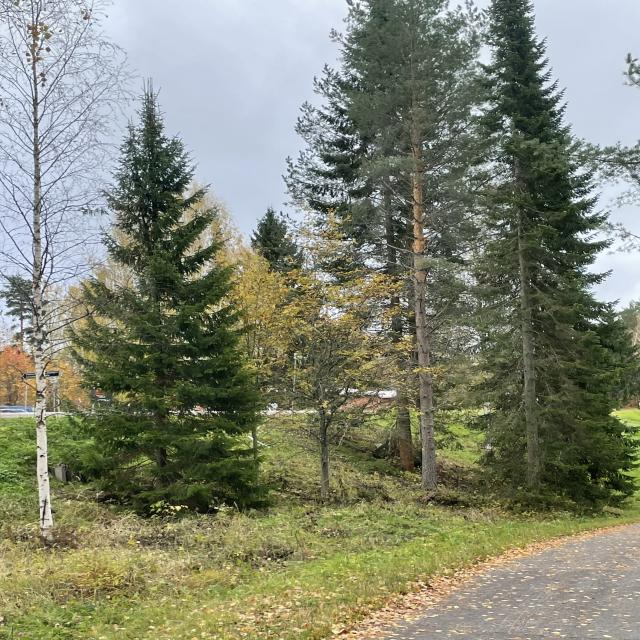spruce: (44, 76, 274, 536), (478, 0, 634, 514), (239, 192, 308, 272)
